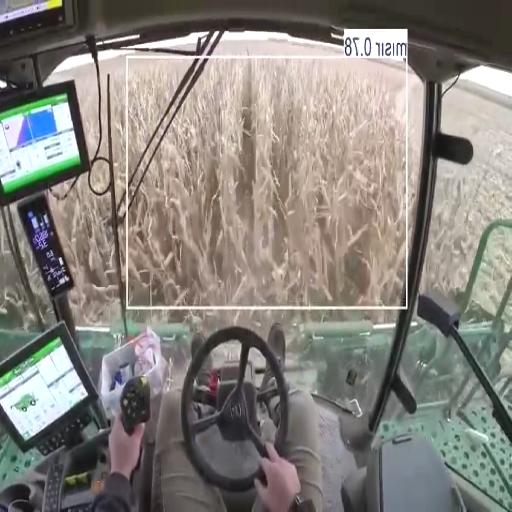misir: (128, 60, 408, 305), (54, 183, 115, 318), (115, 61, 188, 166)
